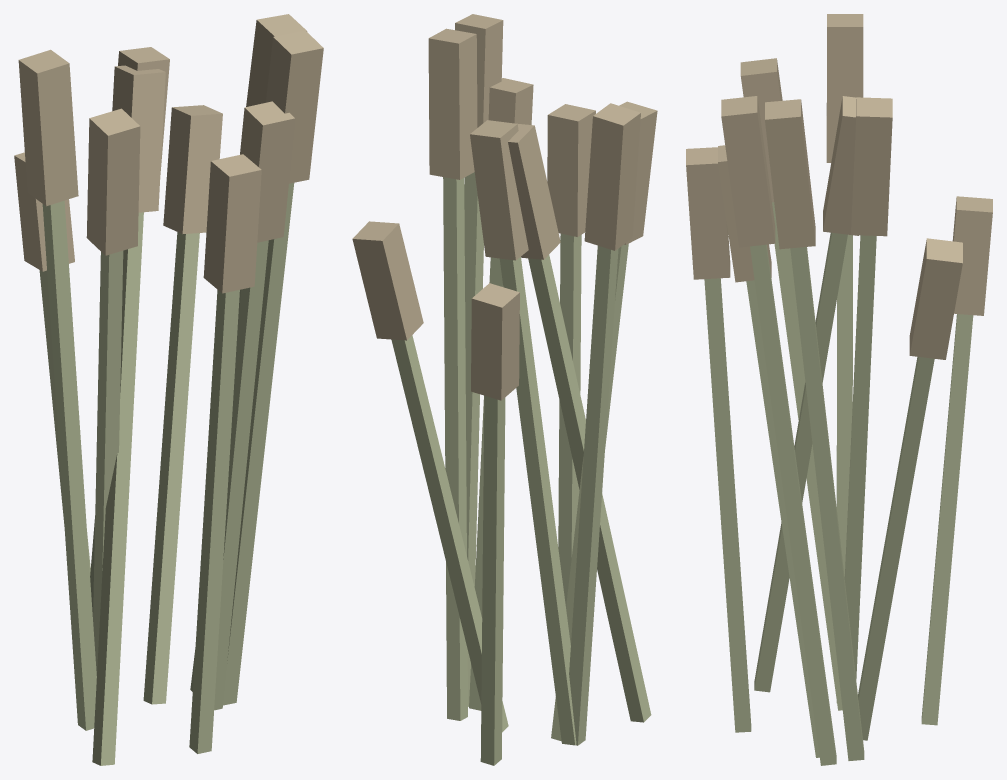
Rendered from reed_s2_02.glb.
3 views of the same model, side by side, from view 1: azimuth 30°, elevation 25°; view 2: azimuth 150°, elevation 25°; view 3: azimuth 270°, elevation 25° (orthographic). The views are drawn at different scales.
Visible parts, largest first — view 1: part00, part01; view 2: part00, part01; view 3: part00, part01.
Boxes of the visible parts, x1,y1,x2,y2 form: part00: (39,183,294,765); part01: (14,14,323,293); part00: (391,172,651,765); part01: (352,14,657,400); part00: (704,202,973,765); part01: (686,14,992,359).
Bounding box in the file's own units: 0.5893 × 1.63 × 0.6735.
